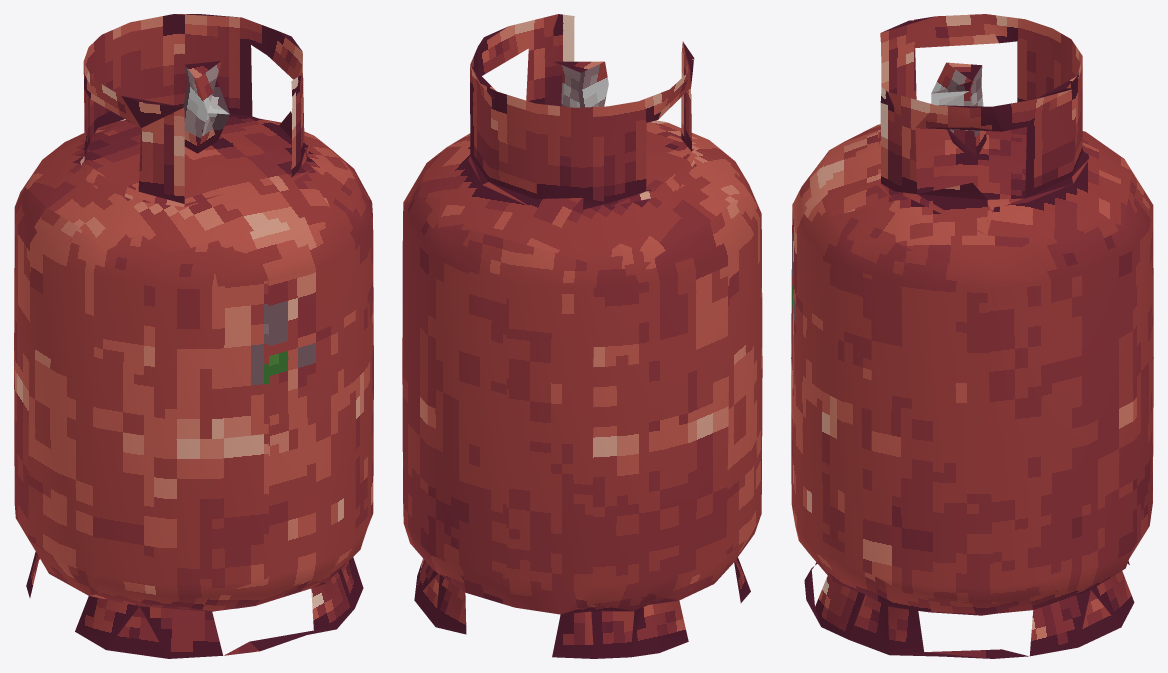
File: propane_tank.glb
3 views of the same model, side by side, from view 1: azimuth 30°, elevation 25°; view 2: azimuth 150°, elevation 25°; view 3: azimuth 270°, elevation 25° (orthographic).
Parts seen in each view (by area): view 1: mesh; view 2: mesh; view 3: mesh.
Part boxes in pixels (x1,y1,x2,y2): mesh: (14,14,373,658); mesh: (402,14,762,658); mesh: (791,14,1153,658).
Bounding box in the file's own units: 0.3409 × 0.5538 × 0.3409.
Materials: 1 (1 with a texture image).
